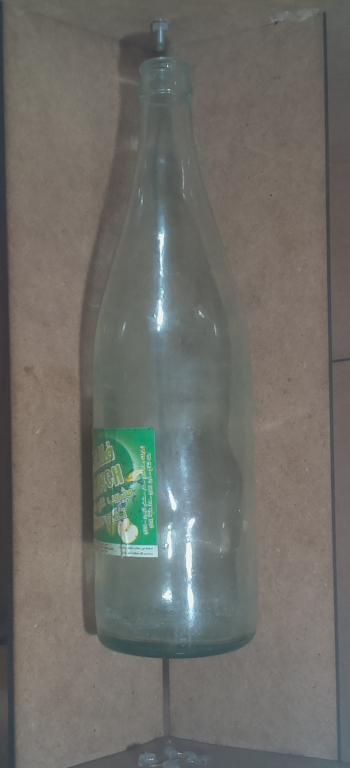Glass: (80, 51, 271, 663)
